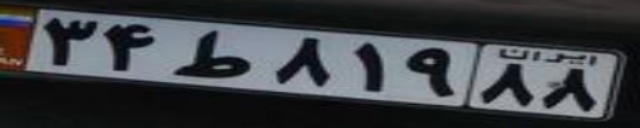1: (352, 41, 385, 91)
3: (38, 16, 97, 67)
4: (101, 22, 157, 70)
8: (275, 36, 331, 87), (477, 59, 534, 108), (544, 68, 599, 113)
9: (403, 46, 455, 96)
taa: (171, 31, 252, 79)
